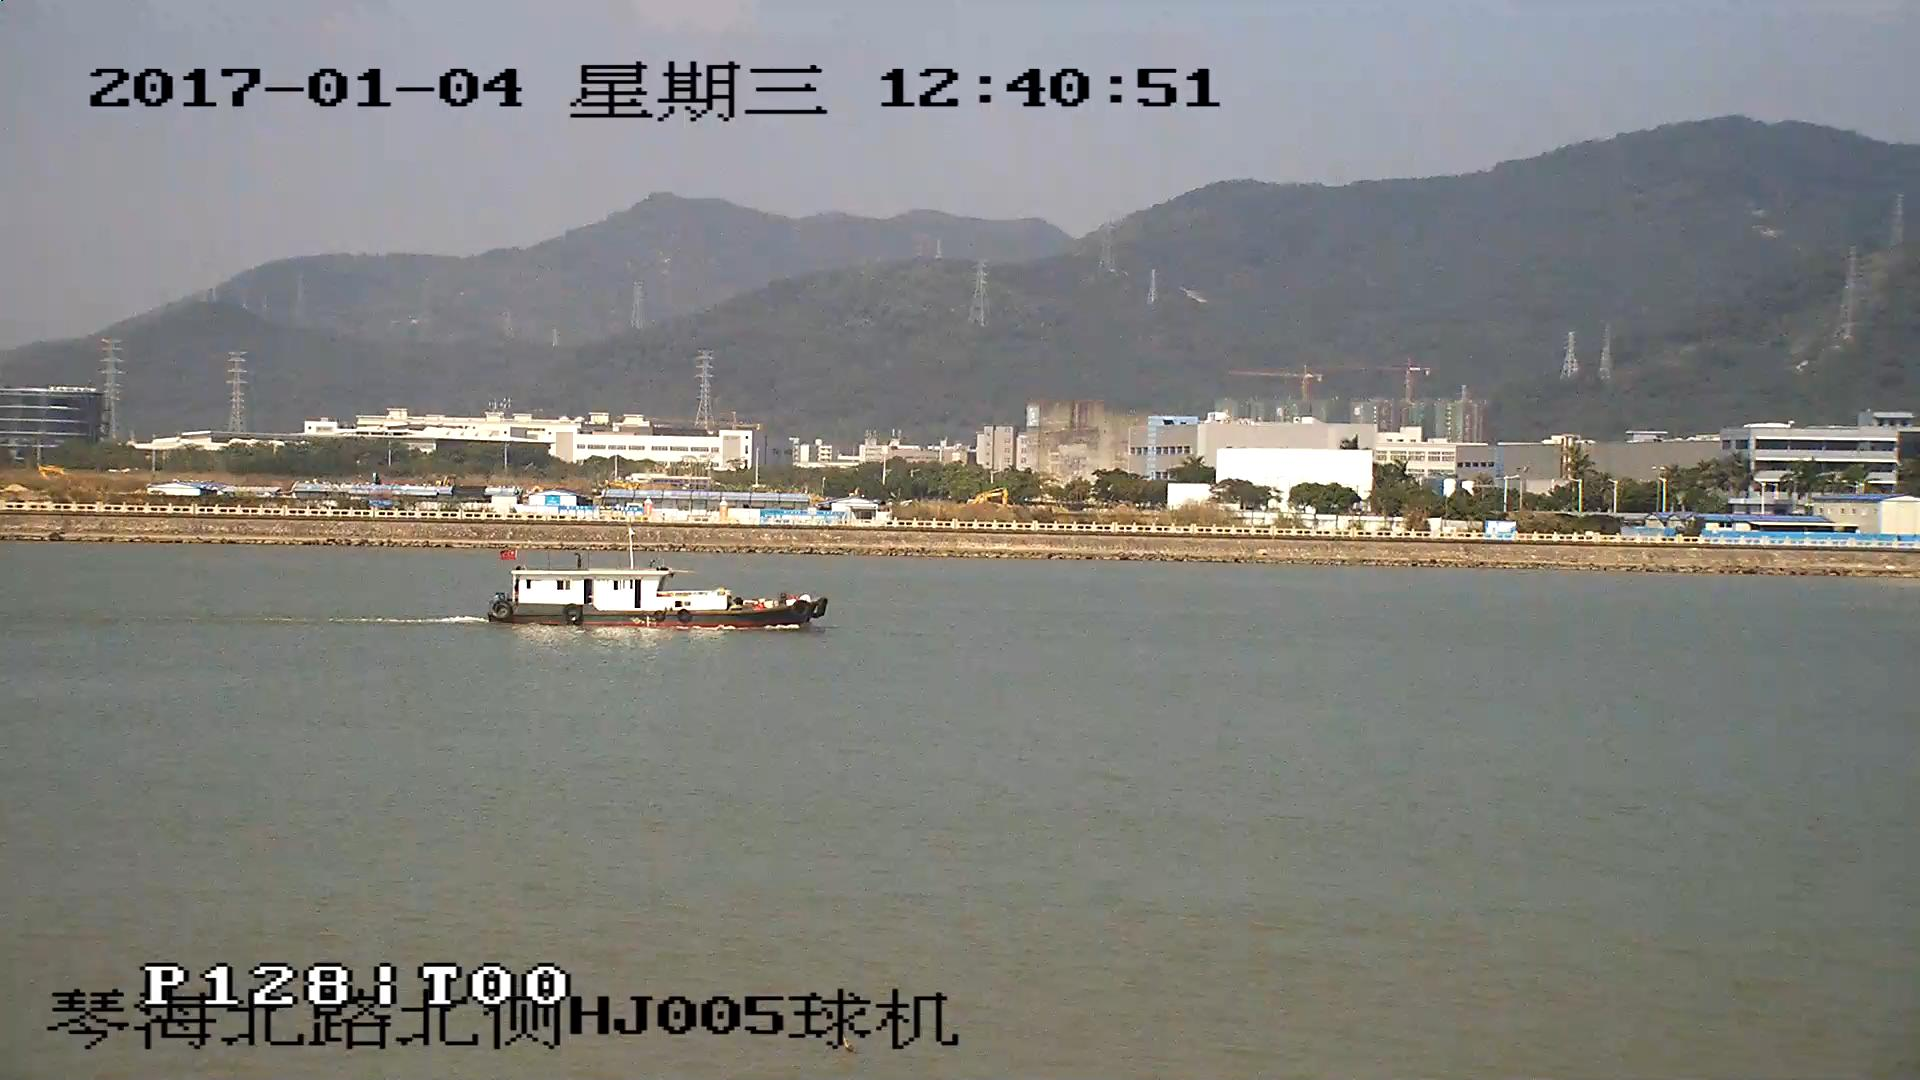fishing boat: (484, 532, 827, 626)
